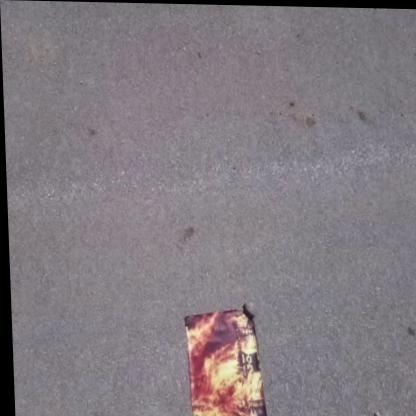fire-poster: (179, 302, 267, 416)
